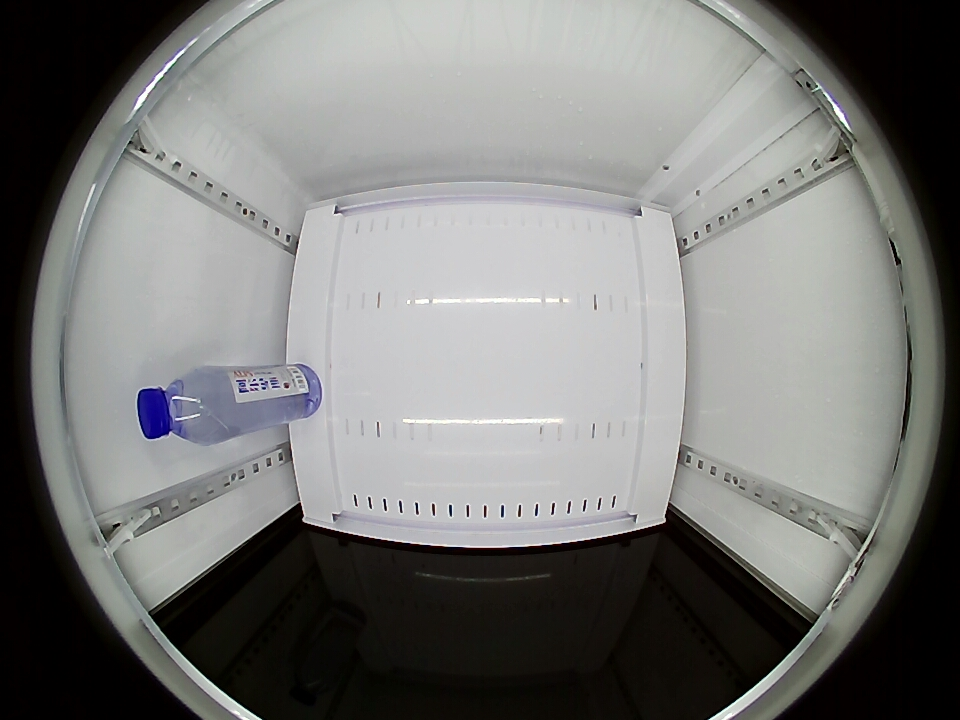aerbeisi: (136, 368, 228, 444)
